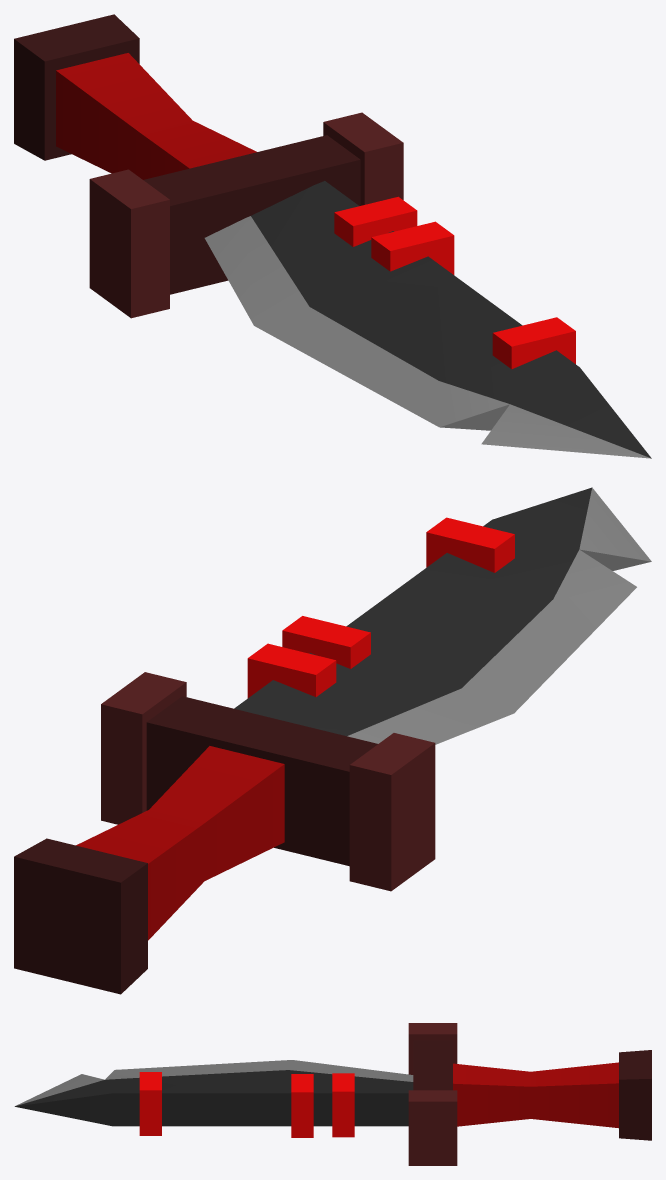
File: Sword 02.FBX
The picture shows the model from 3 angles, top to bottom: view 1: azimuth 30°, elevation 25°; view 2: azimuth 150°, elevation 25°; view 3: azimuth 270°, elevation 25°; orthographic projection. The views are drawn at different scales.
Parts seen in each view (by area): view 1: Sword 02; view 2: Sword 02; view 3: Sword 02.
Part boxes in pixels (left/top/right/bottom): Sword 02: left=14, top=14, right=651, bottom=458; Sword 02: left=14, top=487, right=651, bottom=994; Sword 02: left=14, top=1023, right=651, bottom=1165.
Bounding box in the file's own units: 20 × 7.66 × 68.69.
